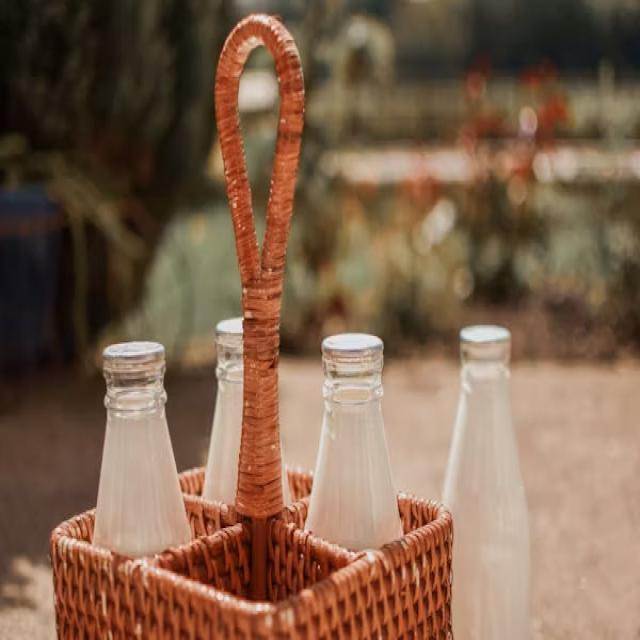Bottle: (443, 327, 530, 639), (306, 335, 403, 550), (93, 343, 190, 556), (203, 317, 243, 503)
